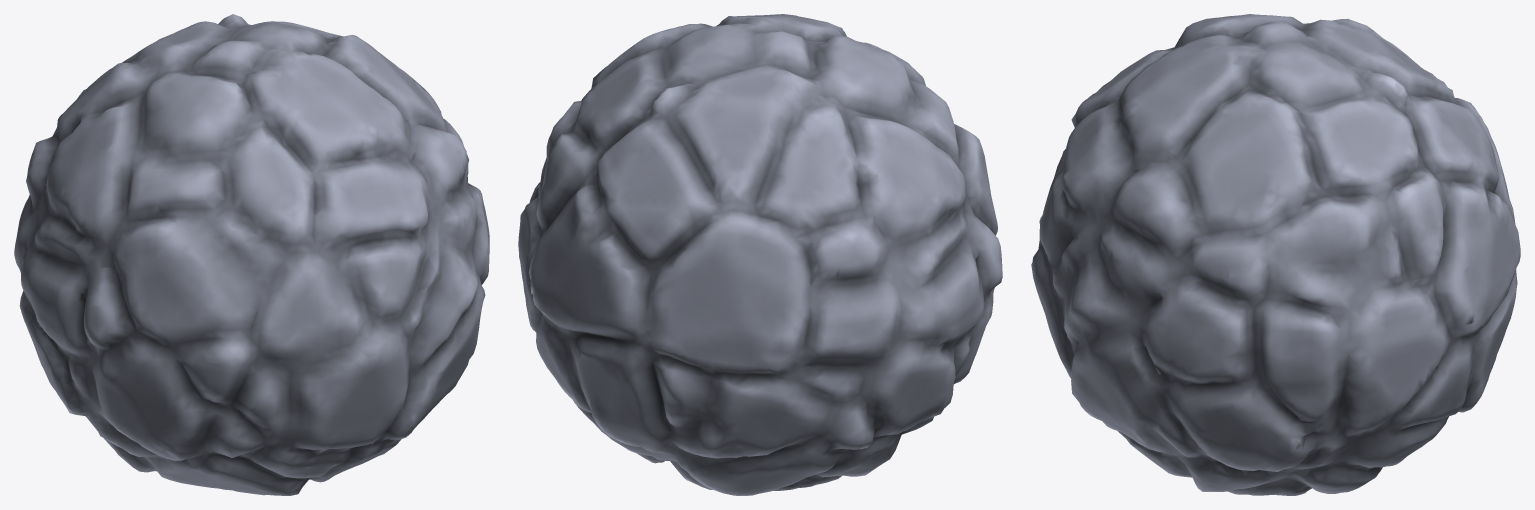
The model's file is BoulderWhole.fbx.
The picture shows the model from 3 angles, left to right: view 1: azimuth 30°, elevation 25°; view 2: azimuth 150°, elevation 25°; view 3: azimuth 270°, elevation 25°; orthographic projection.
Visible parts, largest first — view 1: BoulderWhole; view 2: BoulderWhole; view 3: BoulderWhole.
Boxes of the visible parts, <box> form: BoulderWhole: <box>14,14,489,495</box>; BoulderWhole: <box>518,14,1002,495</box>; BoulderWhole: <box>1031,14,1520,495</box>.
Bounding box in the file's own units: 507 × 517 × 514.
1 material, 1 textured.
